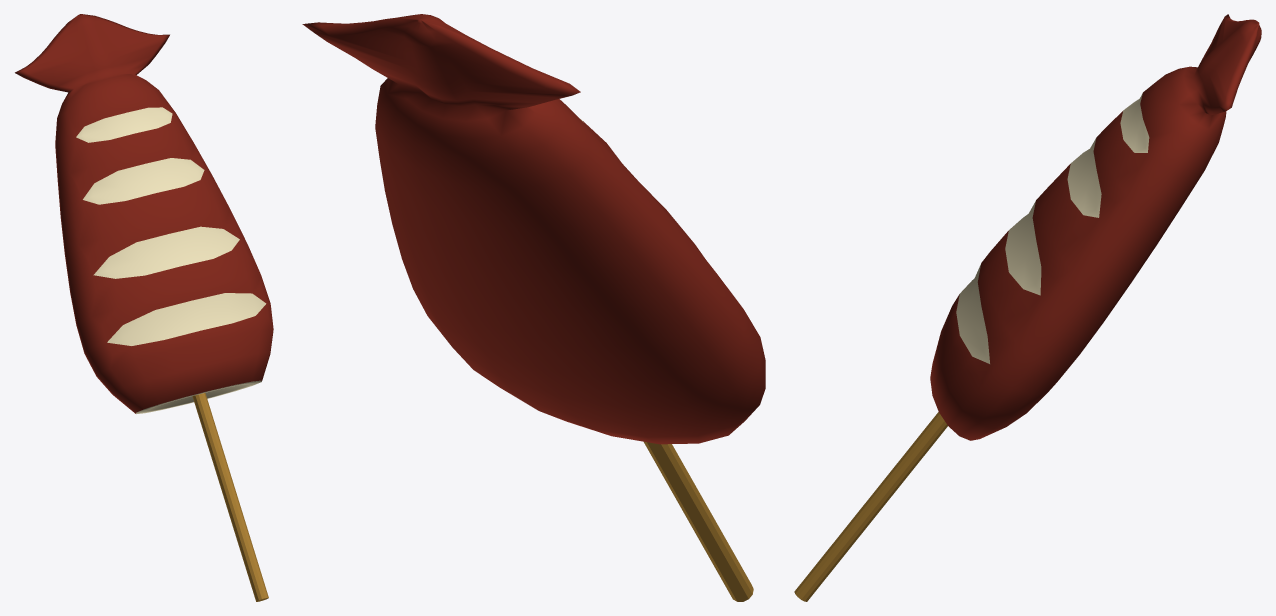
File: SpiralCandy.fbx
3 renders of one model, left to right at view 1: azimuth 30°, elevation 25°; view 2: azimuth 150°, elevation 25°; view 3: azimuth 270°, elevation 25°, orthographic. The views are drawn at different scales.
Visible parts, largest first — view 1: sm_stick_s; view 2: sm_stick_s; view 3: sm_stick_s.
Boxes of the visible parts, <box> form: sm_stick_s: <box>15,14,273,601</box>; sm_stick_s: <box>302,14,765,601</box>; sm_stick_s: <box>794,14,1261,601</box>.
Size of the model in its own units: 39.13 by 91.96 by 67.54.
